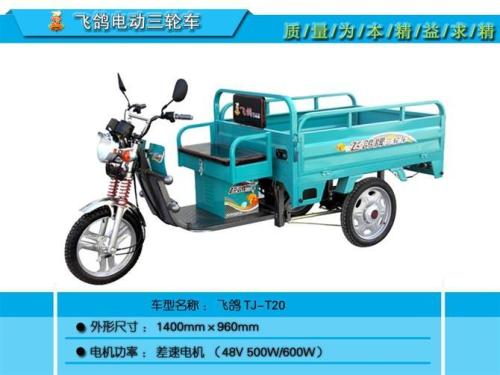tricycle: (49, 70, 449, 277)
